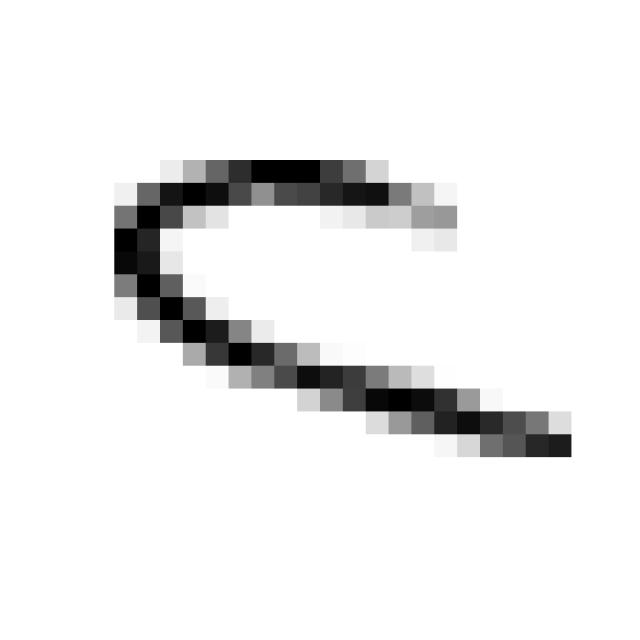2 -two-: (91, 135, 594, 475)
